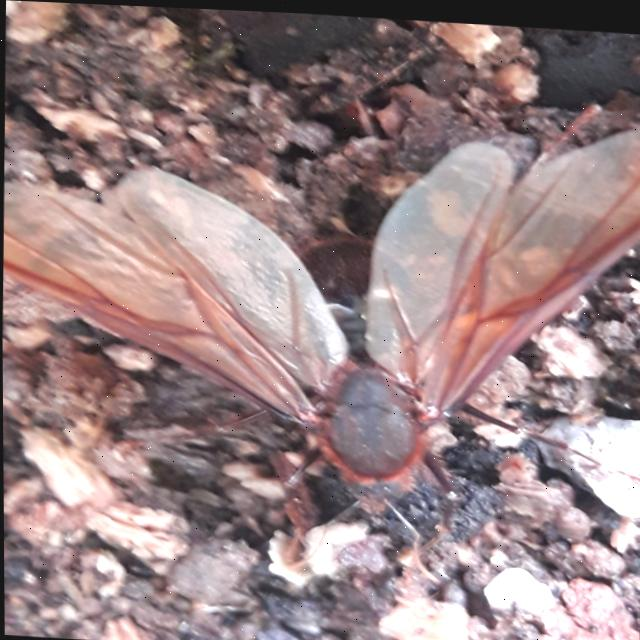Alive-Male-Alate: (0, 79, 640, 591)
